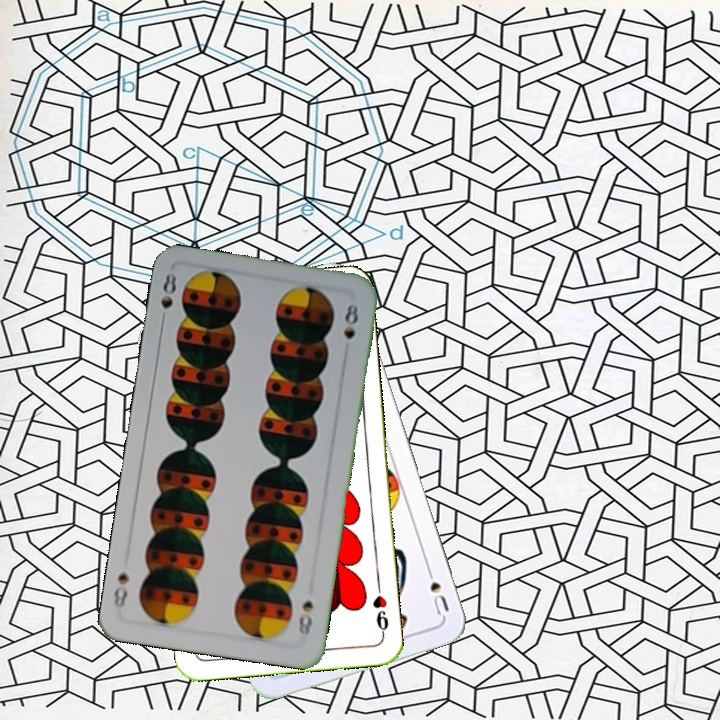H9: (369, 580, 392, 639)
S8: (157, 269, 179, 328), (294, 596, 316, 639)
SU: (421, 561, 452, 618)
